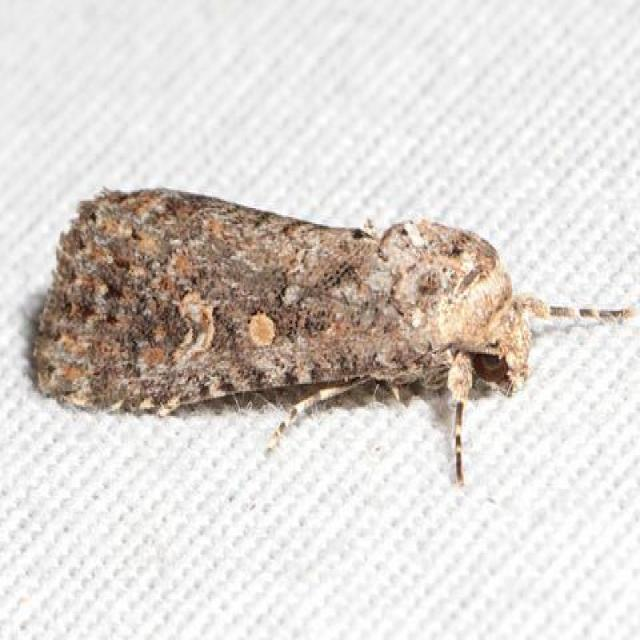BeetArmyWorm-Adult-: (12, 172, 586, 470)
